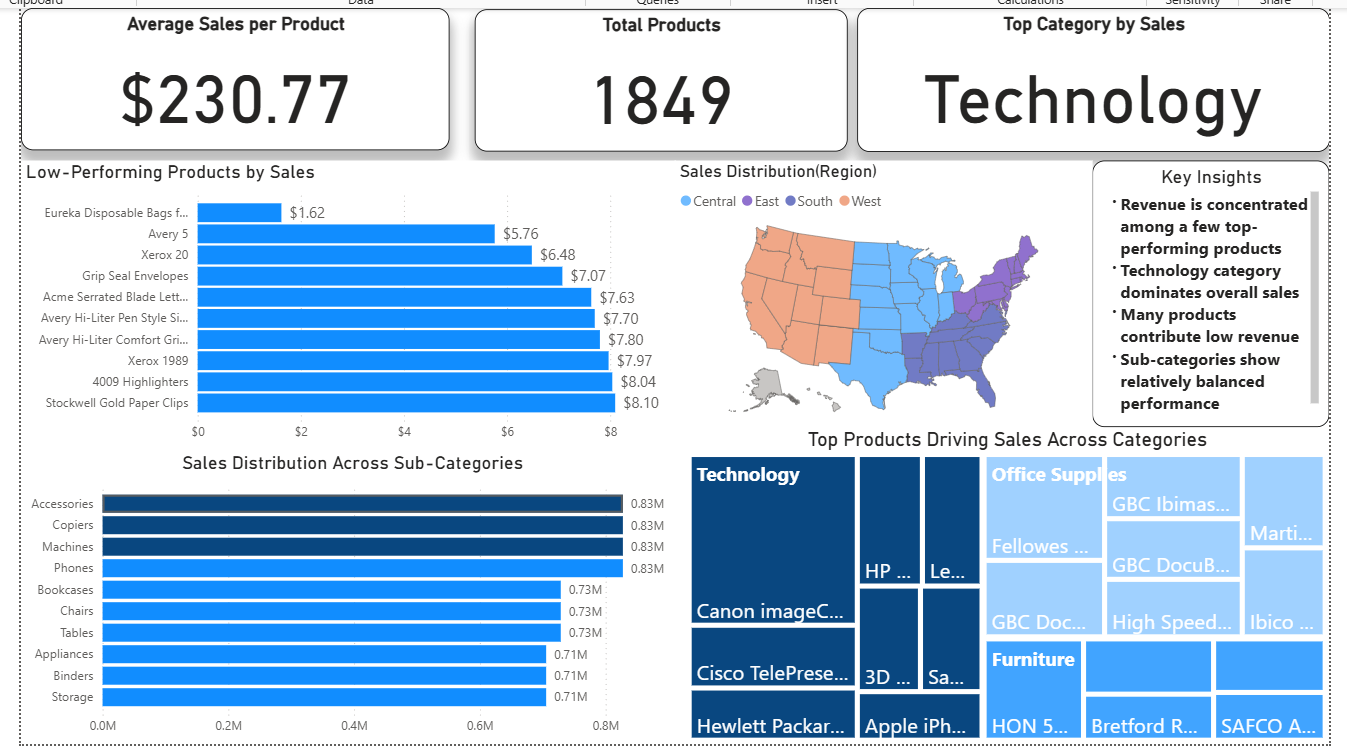

The page's visual inventory and layout, read from the dashboard file:
{"tool":"powerbi","page":{"name":"Exploratory Data Analysis (EDA)","canvas":[1280,720],"ordinal":3},"visuals":[{"type":"card","title":"Average Sales per Product","fields":{"Values":["Sum(vw_KPIs.KPI Avg Sales per Product)"]},"box":[0,0,419.4,139.4],"z":0},{"type":"card","title":"Total Products","fields":{"Values":["vw_KPIs.Total Products"]},"box":[443.9,1.2,364.4,139.4],"z":1000},{"type":"card","title":"Top Category by Sales","fields":{"Values":["vw_KPIs.Top Category by Sales"]},"box":[817.8,0,462.2,140.6],"z":2000},{"type":"clusteredBarChart","title":"Sales Distribution Across Sub-Categories","fields":{"Y":["Sum(vw_Category_Sales.Sales)"],"Category":["train.Sub_Category"]},"box":[0,433.6,649.1,286.8],"z":3000},{"type":"clusteredBarChart","title":"Low-Performing Products by Sales","fields":{"Y":["Sum(train.Sales)"],"Category":["train.Product_Name"]},"box":[0,149.6,640.8,284],"z":4000},{"type":"treemap","title":"Top Products Driving Sales Across Categories","fields":{"Group":["train.Category"],"Details":["train.Product_Name"],"Values":["Sum(train.Sales)"]},"box":[649.1,410.3,631.2,310.1],"z":5000},{"type":"textbox","title":"Key Insights","box":[1057.8,149.2,222.6,261.7],"z":6000},{"type":"shapeMap","title":"Sales Distribution(Region)","fields":{"Series":["train.Region"],"Category":["train.State"],"Value":["Sum(train.Sales)"]},"box":[639.5,149.6,408.9,260.7],"z":7000}]}

Visuals, with their boxes on the page's 1280x720 design canvas (x1, y1, x2, y2). These are canvas units, not pixel positions in the 1347x747 screenshot, which may show the page scaled, cropped or inside an application window:
"Average Sales per Product" card: 0/0/419/139
"Total Products" card: 444/1/808/141
"Top Category by Sales" card: 818/0/1280/141
"Sales Distribution Across Sub-Categories" clusteredBarChart: 0/434/649/720
"Low-Performing Products by Sales" clusteredBarChart: 0/150/641/434
"Top Products Driving Sales Across Categories" treemap: 649/410/1280/720
"Key Insights" textbox: 1058/149/1280/411
"Sales Distribution(Region)" shapeMap: 640/150/1048/410
